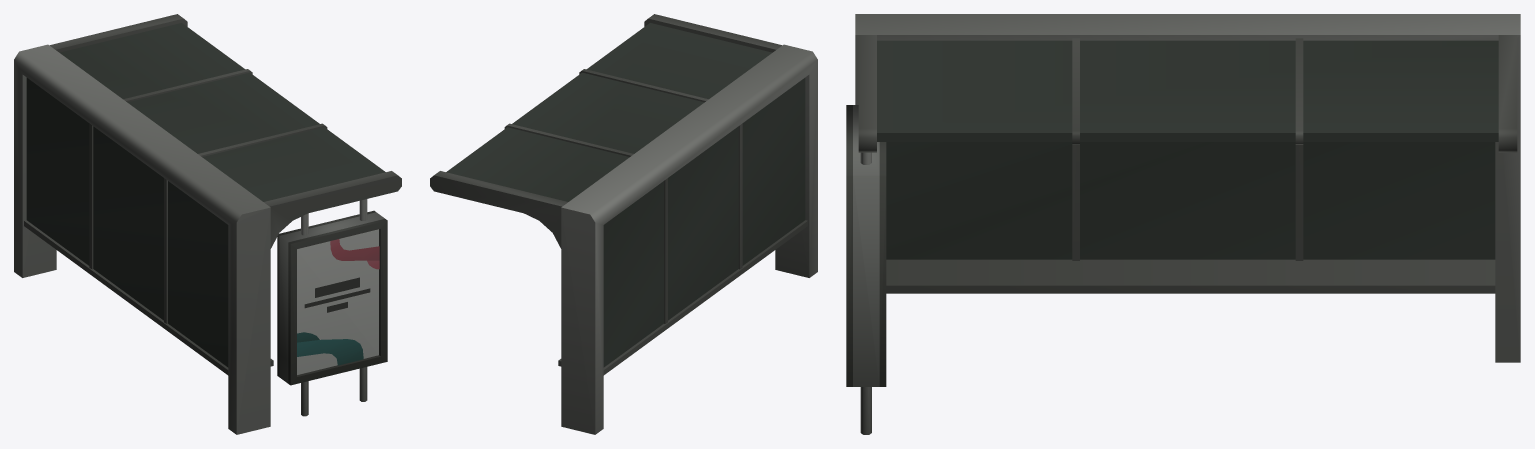
File: ct_busstop.glb
The picture shows the model from 3 angles, left to right: view 1: azimuth 30°, elevation 25°; view 2: azimuth 150°, elevation 25°; view 3: azimuth 270°, elevation 25°; orthographic projection. The views are drawn at different scales.
Parts seen in each view (by area): view 1: ct_busstop; view 2: ct_busstop; view 3: ct_busstop.
Part boxes in pixels (bbox=[...]): ct_busstop: bbox=[14, 14, 401, 434]; ct_busstop: bbox=[430, 14, 817, 434]; ct_busstop: bbox=[846, 14, 1520, 434].
Size of the model in its own units: 1.98 by 2.5 by 4.66.
